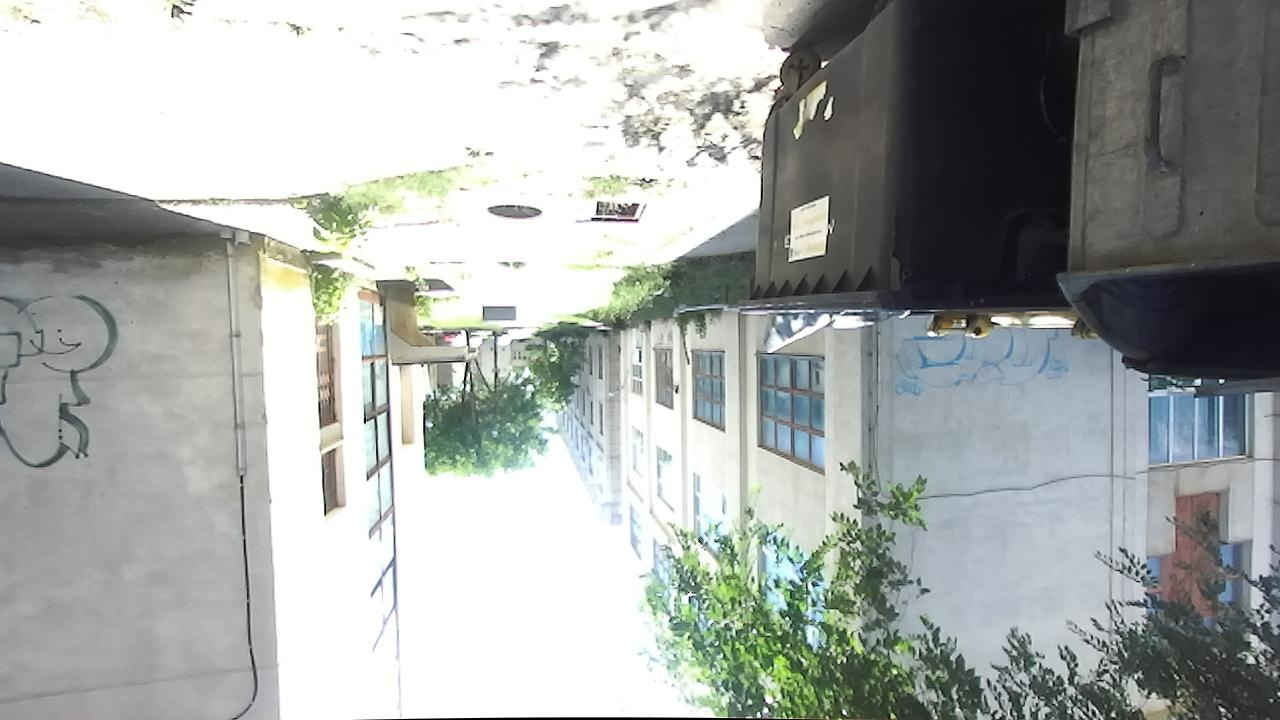drain: (587, 199, 648, 227), (483, 201, 546, 225)
